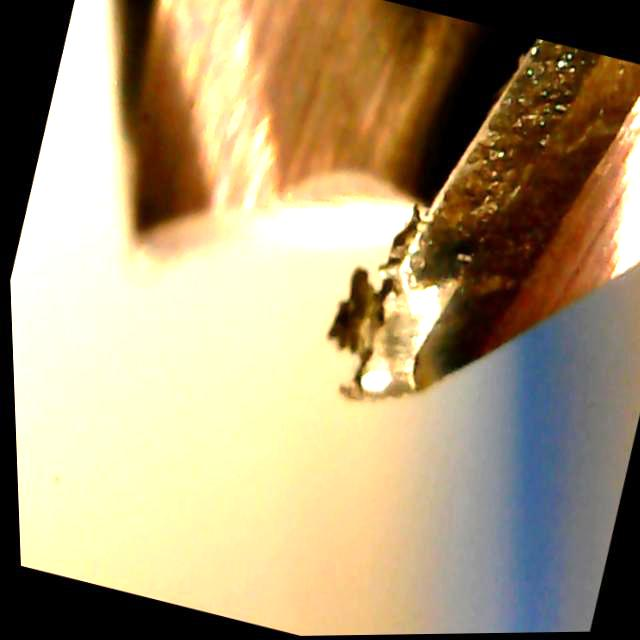Tool-wear-class-2: (302, 40, 570, 452)
